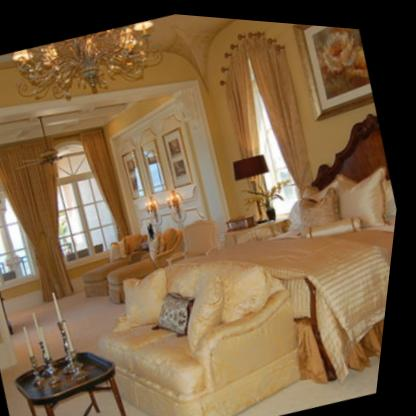Curtains: (0, 140, 82, 301), (82, 128, 135, 235)
